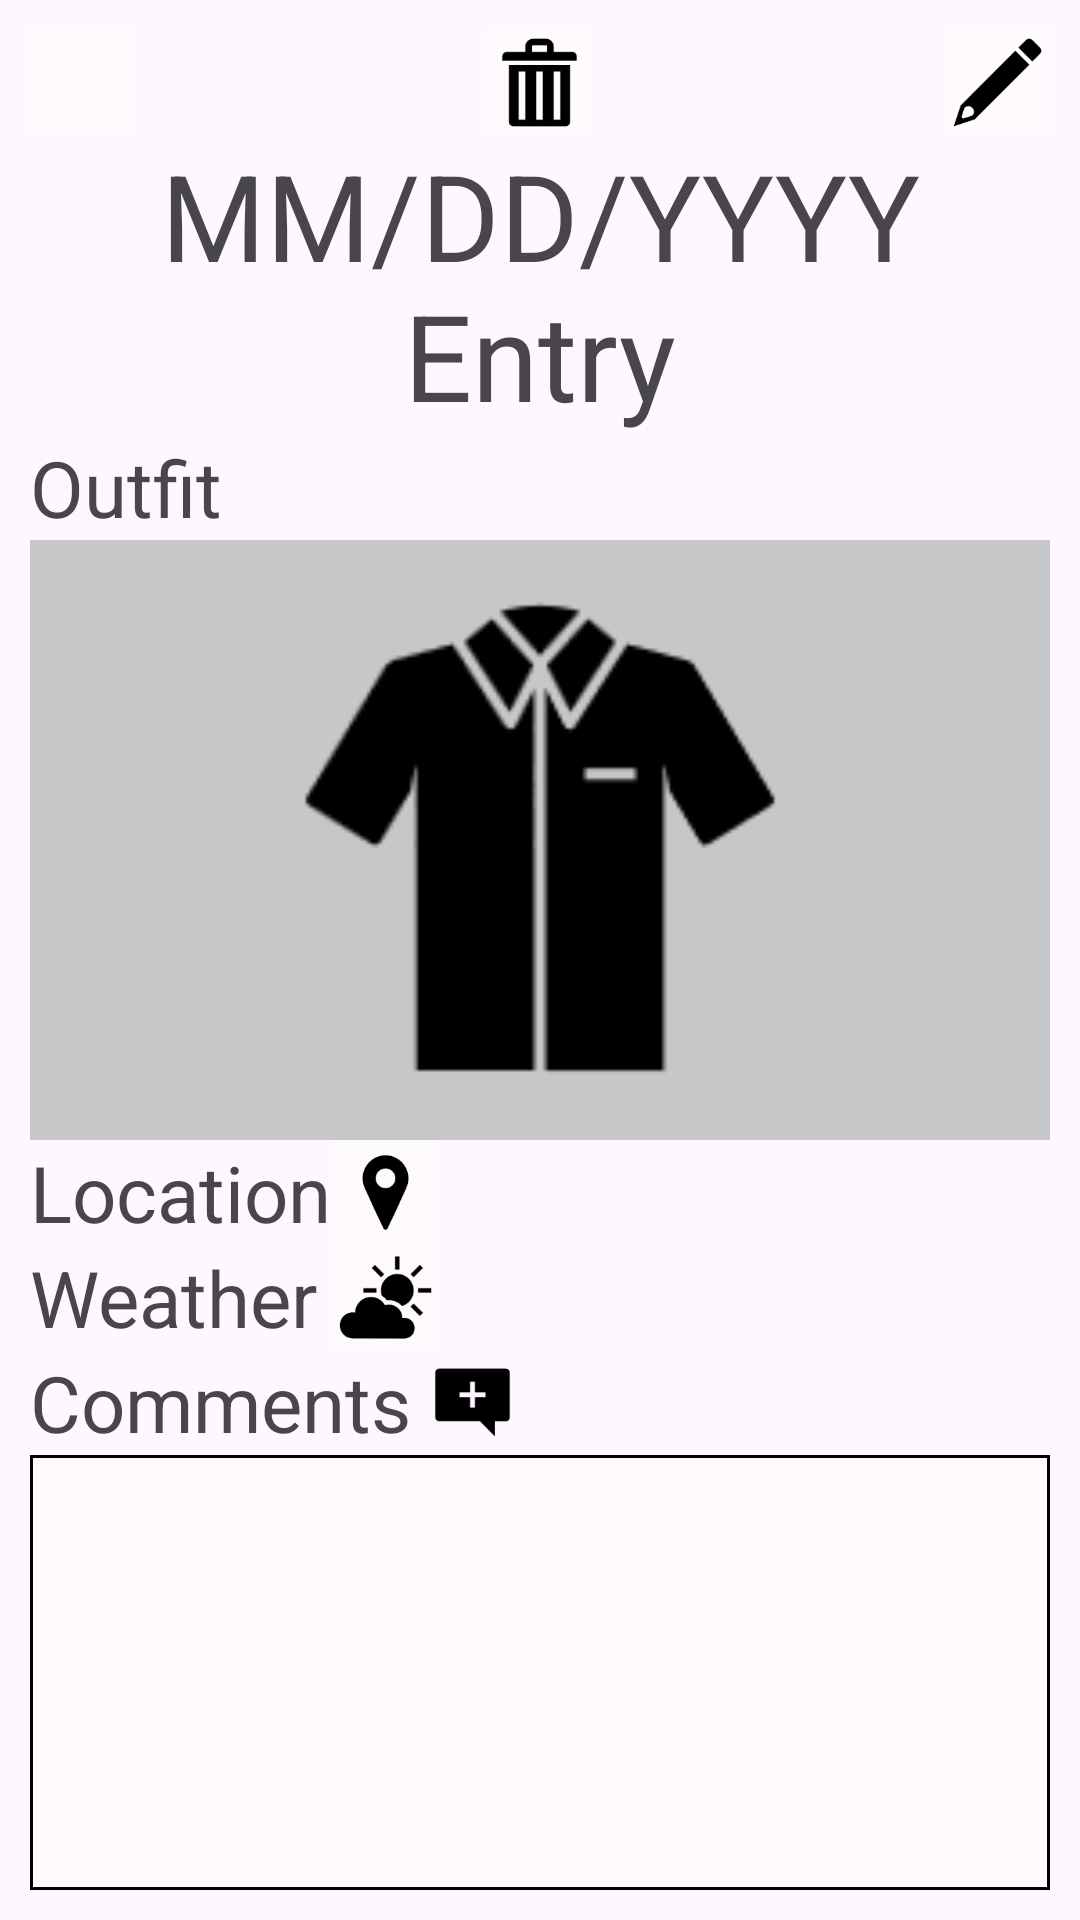

Locate icon controls on the screen. Image size 1080w x 1920h, boxes as {"left": x1, "top": y1, "right": x2, "bottom": y2}.
delete: {"left": 502, "top": 38, "right": 577, "bottom": 127}
edit: {"left": 953, "top": 38, "right": 1042, "bottom": 127}
